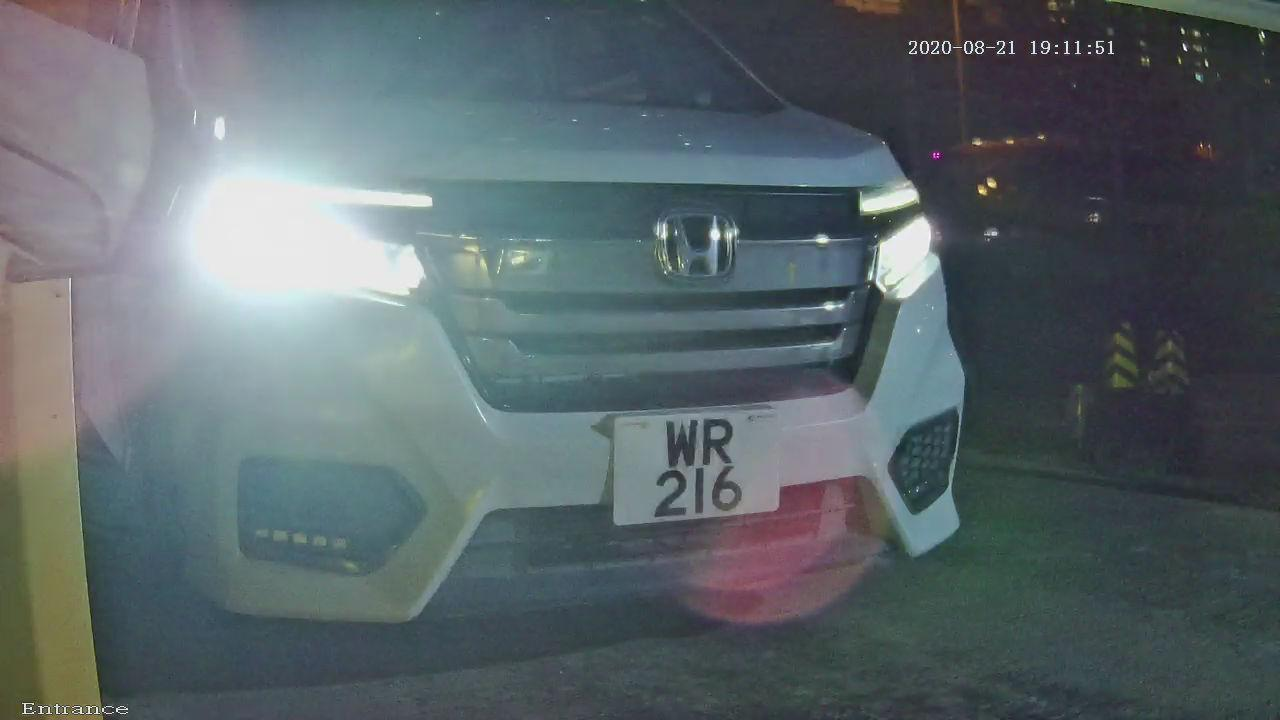Car: (12, 1, 1029, 720)
License Plate: (595, 386, 801, 550)
